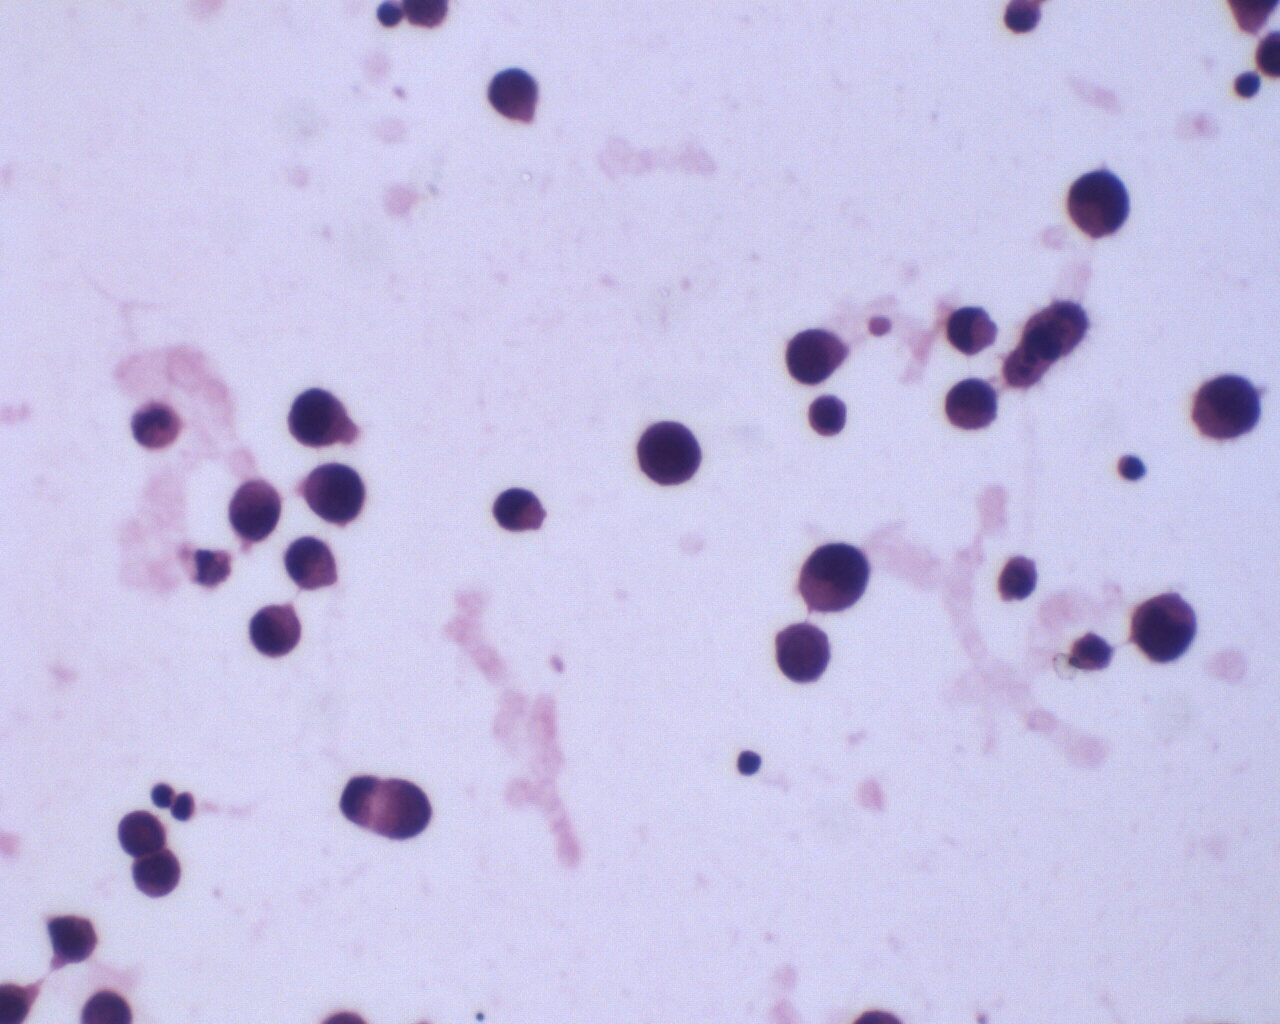ab: (1190, 370, 1269, 446), (1060, 160, 1134, 240), (796, 542, 877, 616), (1127, 583, 1196, 666), (635, 417, 706, 489), (784, 320, 851, 391), (770, 618, 837, 686), (286, 388, 351, 453), (305, 460, 368, 525), (226, 476, 286, 543), (245, 600, 305, 662), (942, 376, 1002, 436), (492, 483, 548, 538), (284, 534, 335, 592), (48, 912, 101, 965), (115, 807, 167, 858), (131, 850, 183, 899), (806, 390, 850, 437)
lymph: (734, 746, 765, 783), (1119, 453, 1148, 483)
